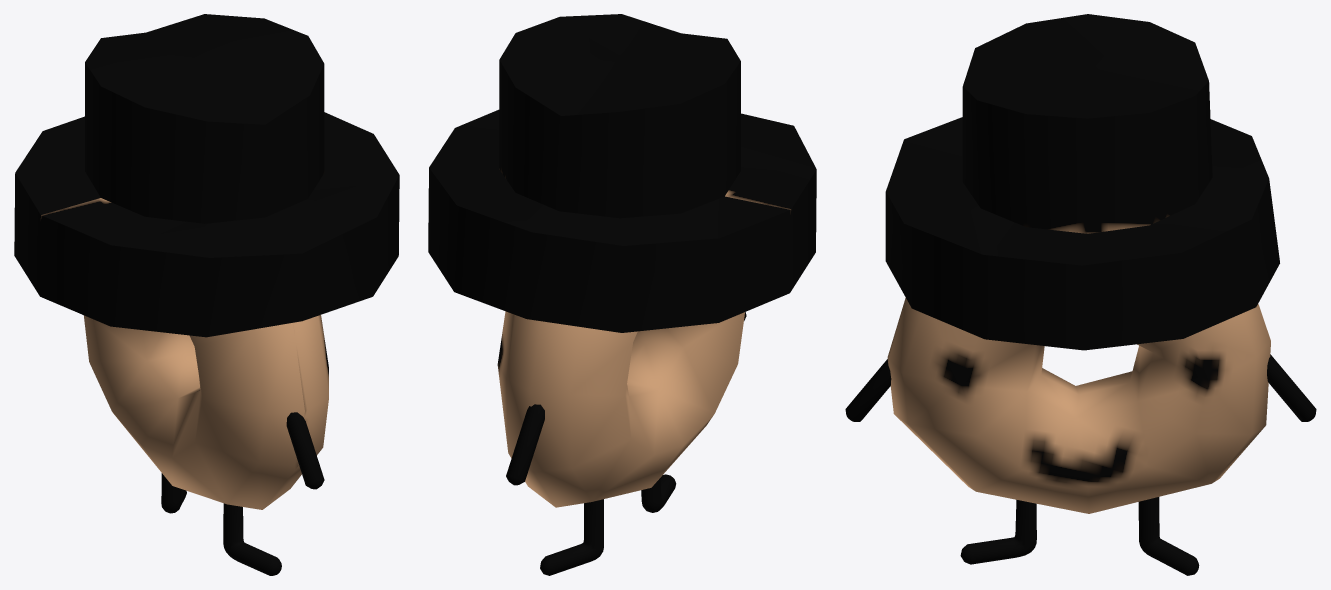
Rendered from Bagel Man.glb.
3 renders of one model, left to right at view 1: azimuth 30°, elevation 25°; view 2: azimuth 150°, elevation 25°; view 3: azimuth 270°, elevation 25°, orthographic. The views are drawn at different scales.
Parts seen in each view (by area): view 1: bagelBoy; view 2: bagelBoy; view 3: bagelBoy.
Boxes of the visible parts, box(x1,y1,x2,y2) form: bagelBoy: box(14, 14, 399, 575); bagelBoy: box(428, 14, 816, 575); bagelBoy: box(845, 14, 1316, 575).
Size of the model in its own units: 0.926 by 1.28 by 1.1.
1 material, 1 textured.
